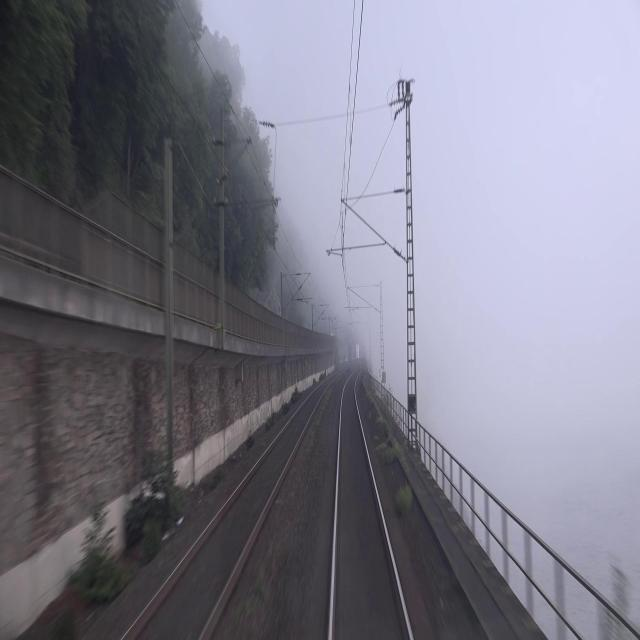rail-track: (125, 382, 327, 639), (333, 367, 409, 639)
